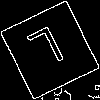L: (25, 25, 72, 79)
